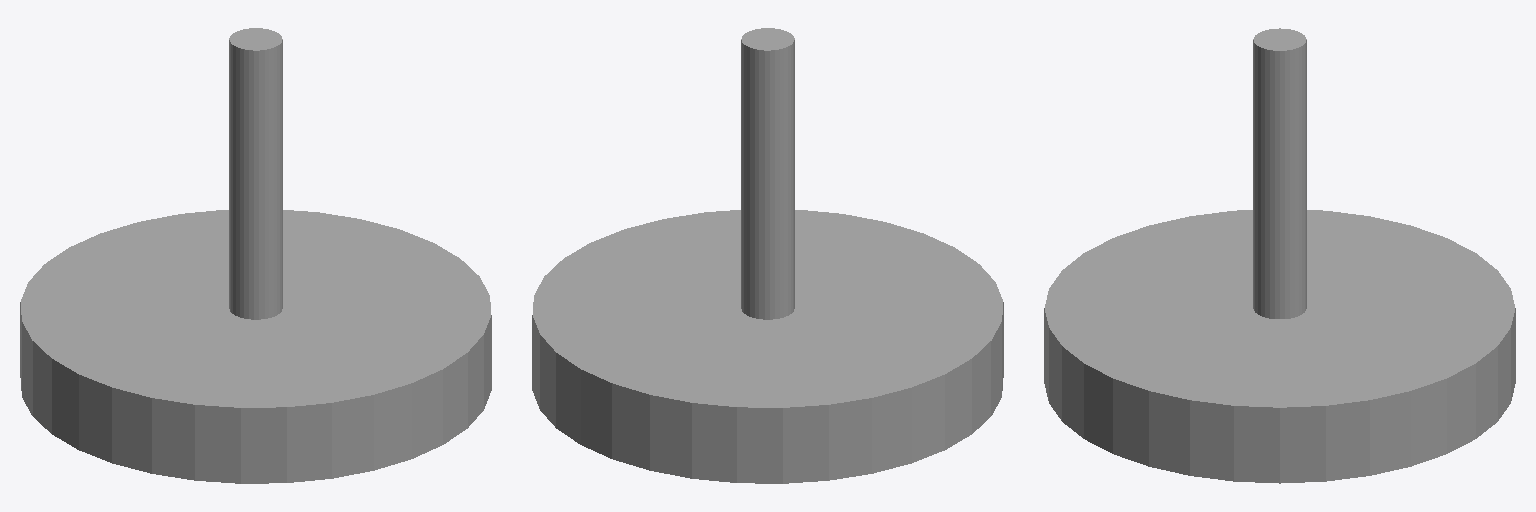
URDF robot description (pipette):
<?xml version="1.0"?>
<robot name="pipette">

    <link name="base_link"/>
    <!-- Cylinder 1 -->
    <link name="cylinder1">
        <visual>
            <geometry>
                <cylinder radius="0.031" length="0.011"/>
            </geometry>
            <material name="grey">
                <color rgba="0.7 0.7 0.7 1"/>
            </material>
        </visual>
        <collision>
            <geometry>
                <cylinder radius="0.031" length="0.011"/>
            </geometry>
        </collision>
        <inertial>
            <mass value="0.1"/>
            <origin xyz="0 0 0"/>
            <inertia ixx="0.0001" iyy="0.0001" izz="0.0001" ixy="0" ixz="0" iyz="0"/>
        </inertial>
    </link>

    <!-- Cylinder 2 -->
    <link name="cylinder2">
        <visual>
            <geometry>
                <cylinder radius="0.0035" length="0.039"/>
            </geometry>
            <material name="grey"/>
        </visual>
        <collision>
            <geometry>
                <cylinder radius="0.0035" length="0.039"/>
            </geometry>
        </collision>
        <inertial>
            <mass value="0.05"/>
            <origin xyz="0 0 0.025"/>
            <inertia ixx="0.00005" iyy="0.00005" izz="0.00005" ixy="0" ixz="0" iyz="0"/>
        </inertial>
    </link>

    <joint name="base_link_joint" type="fixed">
        <parent link="base_link"/>
        <child link="cylinder1"/>
    </joint>
    <!-- Joint connecting the two cylinders -->
    <joint name="cylinder_1_to_cylinder_2" type="fixed">
        <parent link="cylinder1"/>
        <child link="cylinder2"/>
        <origin xyz="0 0 0.025" rpy="0 0 0"/>
    </joint>

</robot>

--- Render facts (derived) ---
3 views of the same robot in one strip: view 1: azimuth 30°, elevation 25°; view 2: azimuth 150°, elevation 25°; view 3: azimuth 270°, elevation 25° (orthographic).
Model pipette with 3 links and 2 joints (2 fixed), rooted at base_link, posed every joint at zero.
Links seen in each view (by area): view 1: cylinder1, cylinder2; view 2: cylinder1, cylinder2; view 3: cylinder1, cylinder2.
Boxes of the visible links, x1,y1,x2,y2 form: cylinder1: [20, 210, 491, 483]; cylinder2: [229, 28, 282, 319]; cylinder1: [532, 210, 1003, 483]; cylinder2: [741, 28, 794, 319]; cylinder1: [1044, 210, 1515, 483]; cylinder2: [1253, 28, 1306, 318].
Bounding box of the posed robot: 0.062 × 0.062 × 0.05 m (x, y, z).
Geometry: primitives only (box / cylinder / sphere), no mesh files.
